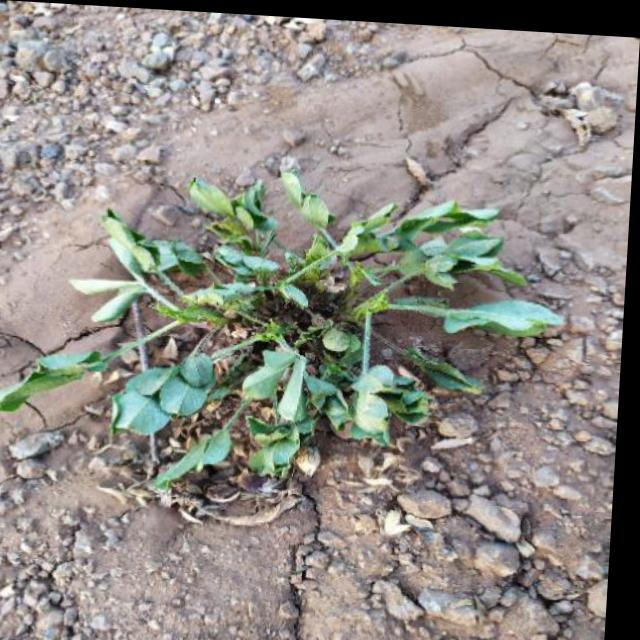weed: (26, 171, 572, 501)
